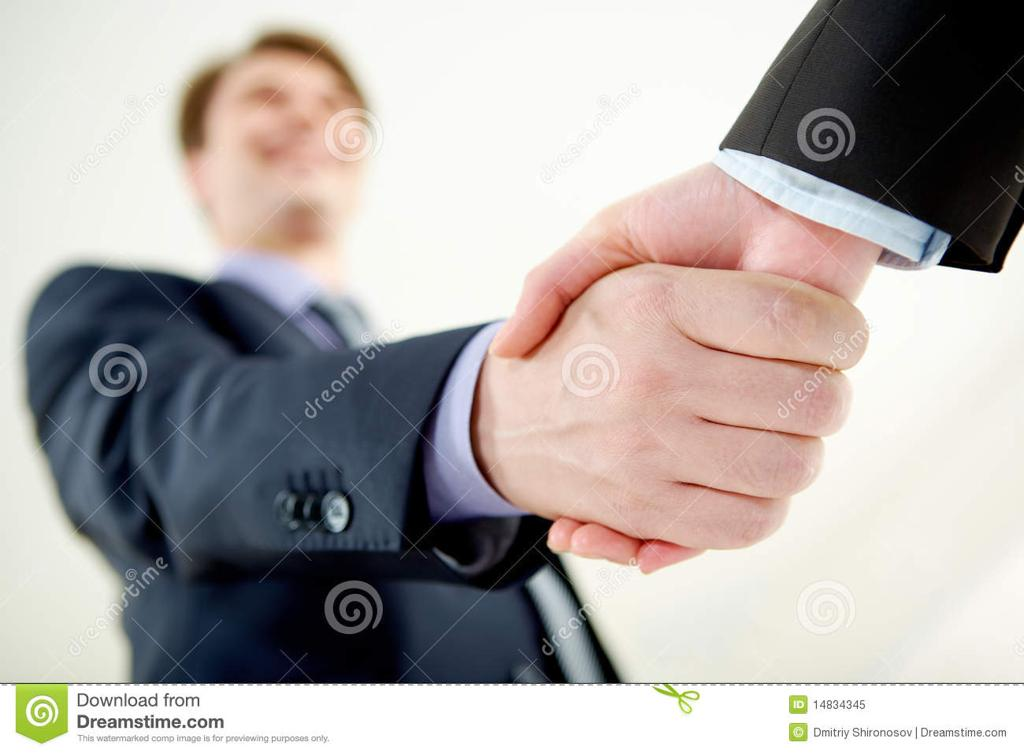face: (200, 44, 356, 214)
